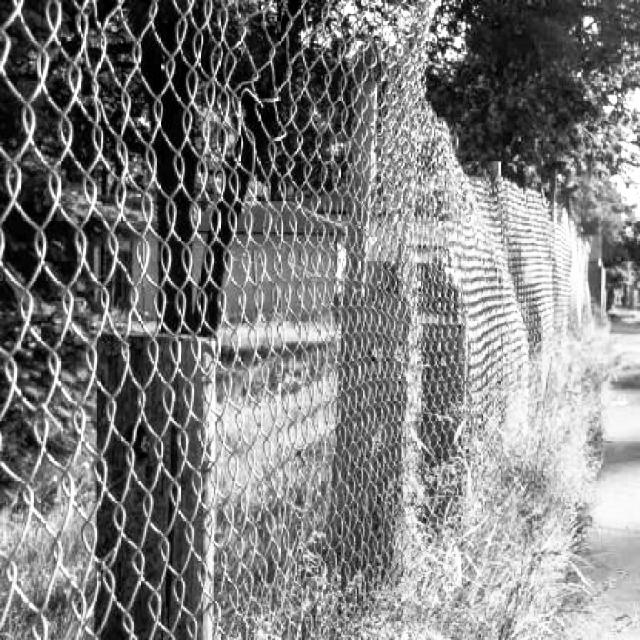anomaly-fence: (413, 86, 548, 434)
fences: (28, 17, 331, 640)
